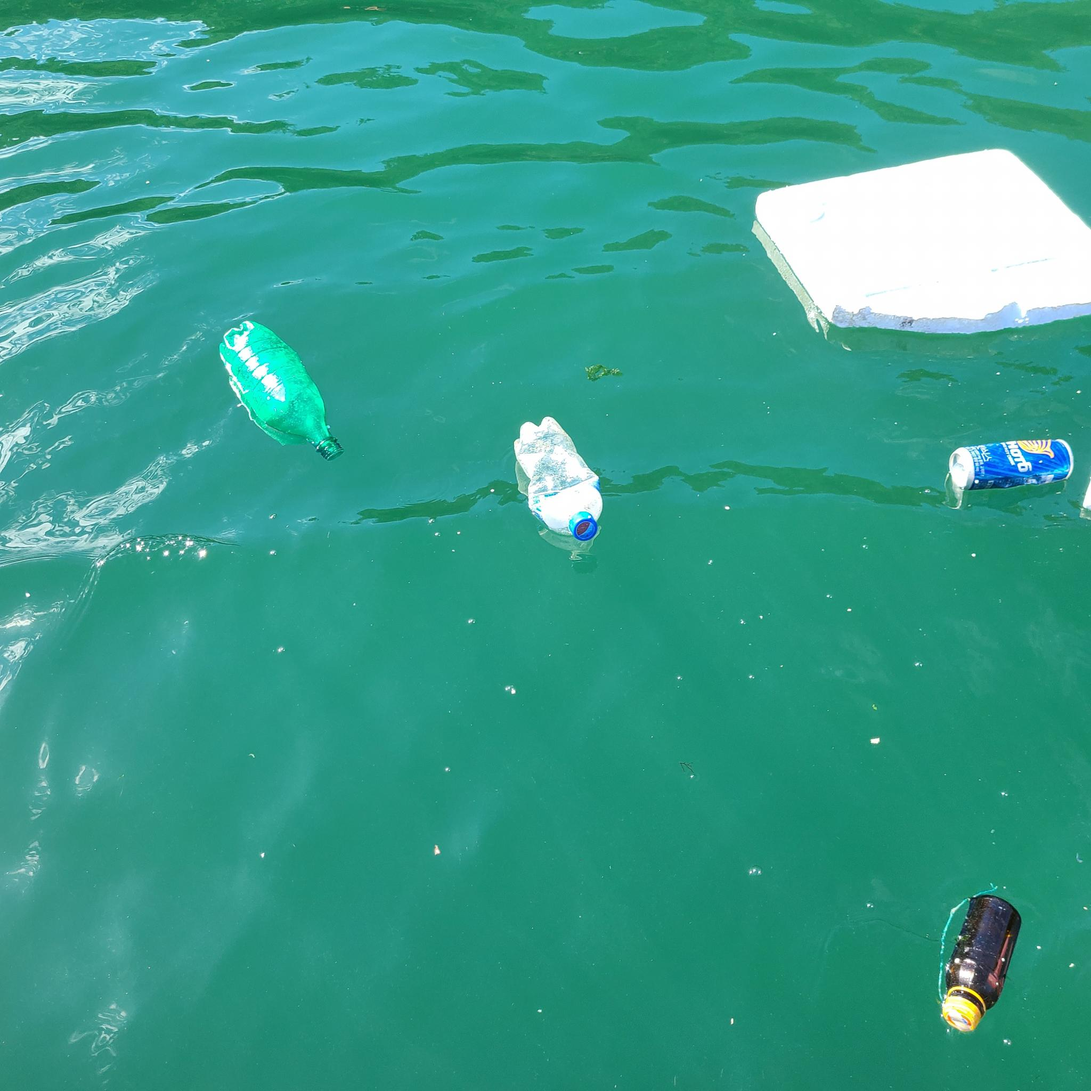sampah_terapung: (755, 149, 1091, 335), (219, 321, 344, 461), (514, 417, 604, 542), (943, 895, 1022, 1033), (949, 440, 1074, 491)
